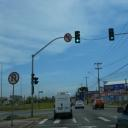NoVirarEsquerda: (64, 32, 72, 43)
NoVirarU: (8, 70, 20, 85)
